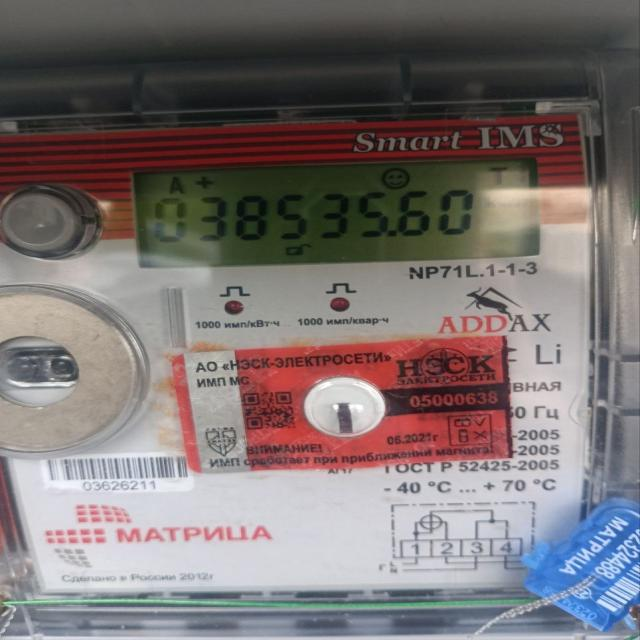Display: (130, 156, 543, 270)
meter_matrica: (0, 96, 604, 617)
meter_number: (44, 453, 193, 495)
seal_imp: (173, 336, 514, 479)
